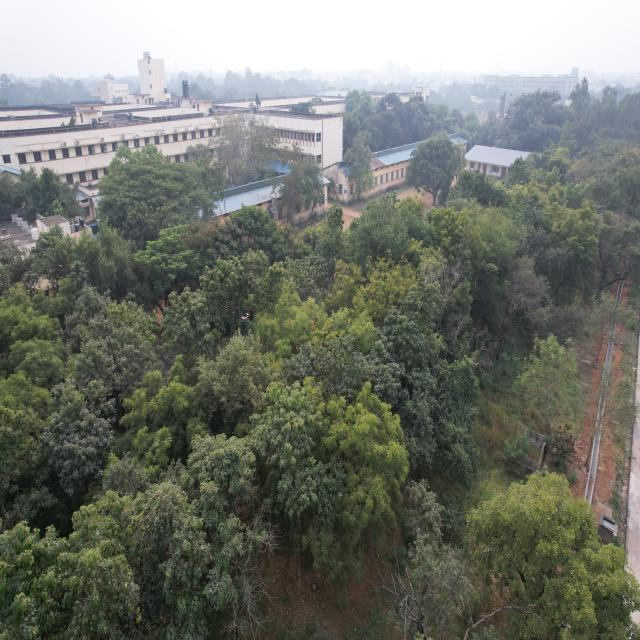Devakanchan tree: (50, 479, 211, 627), (222, 422, 304, 560), (177, 257, 249, 346), (66, 314, 130, 376)
Mango Tree: (412, 139, 460, 198)
Neem Tree: (342, 408, 400, 520), (124, 377, 192, 465), (333, 269, 397, 327), (258, 304, 315, 354)
